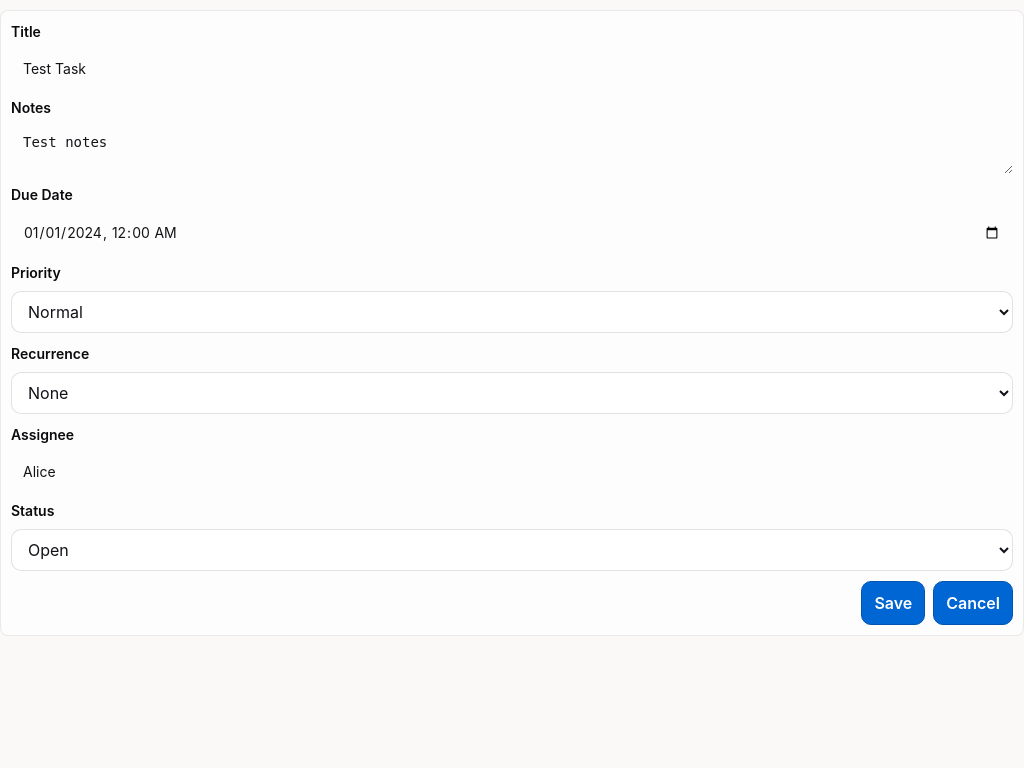
it: TaskEditor › validates that title is required before saving
The image size is (1024, 768).
Clear the field labelled "Title" at (512, 68), box [11,50,1013,87]
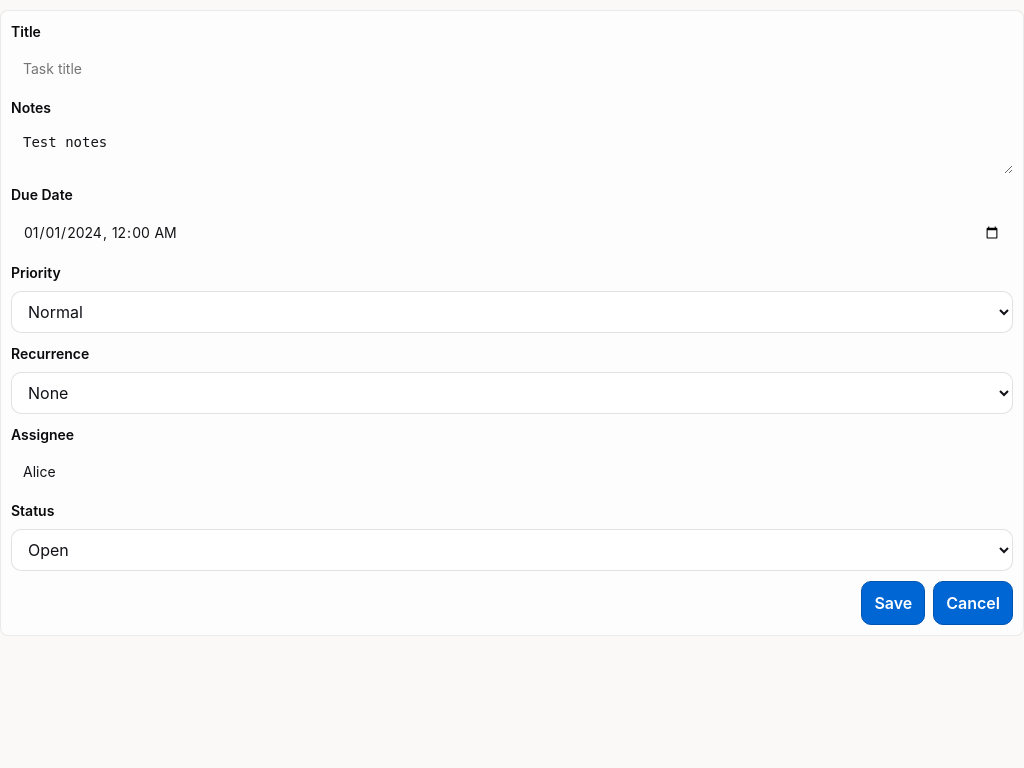
Click the button "Save" at (893, 603), box [861,581,925,625]
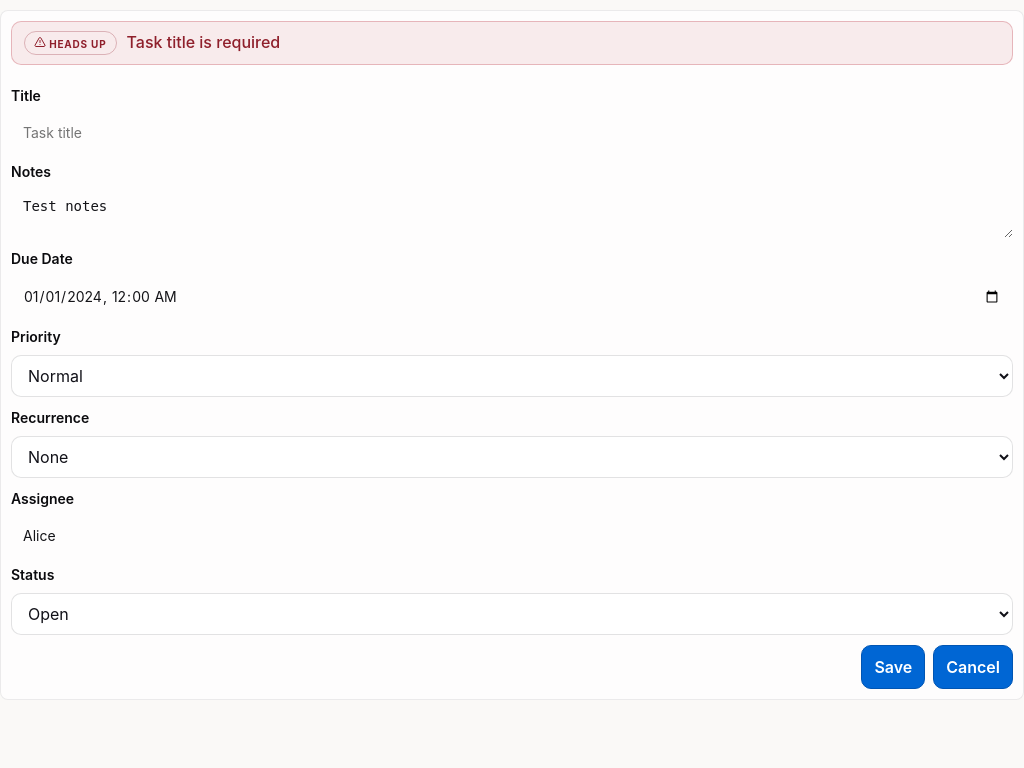
Result: the text "Task title is required" is shown at [126,32,280,52]
